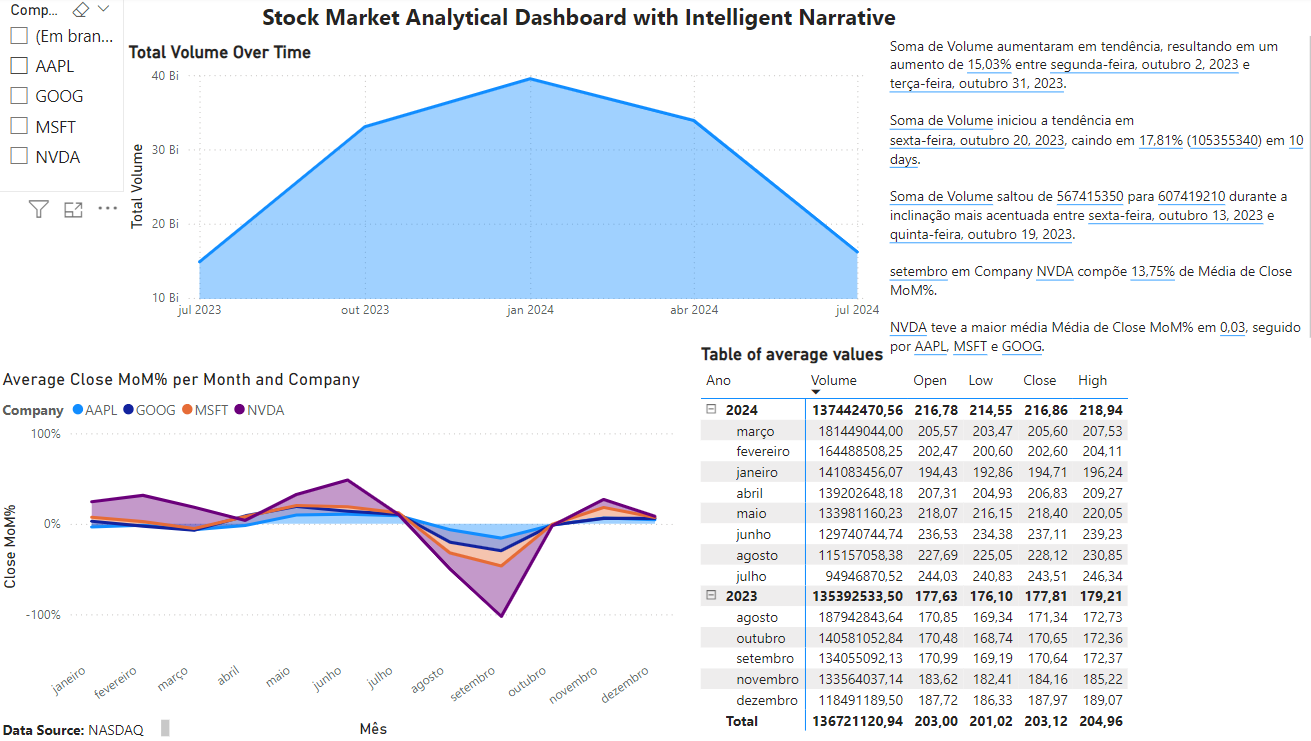

What the dashboard file says about the page in this screenshot:
{"tool":"powerbi","page":{"name":"Stock Market","canvas":[1280,720],"ordinal":0},"visuals":[{"type":"areaChart","title":"Total Volume Over Time","fields":{"Category":["TEC Stock Market.Date.Variation.Hierarquia de datas.Ano","TEC Stock Market.Date.Variation.Hierarquia de datas.Trimestre","TEC Stock Market.Date.Variation.Hierarquia de datas.Mês","TEC Stock Market.Date.Variation.Hierarquia de datas.Dia"],"Y":["Sum(TEC Stock Market.Volume)"]},"box":[143.6,43.4,700.9,292],"z":0},{"type":"pivotTable","title":"Table of average values per month","fields":{"Rows":["TEC Stock Market.Date.Variation.Hierarquia de datas.Ano","TEC Stock Market.Date.Variation.Hierarquia de datas.Mês"],"Values":["Avg(TEC Stock Market.Volume)","Avg(TEC Stock Market.Open)","Avg(TEC Stock Market.Low)","Sum(TEC Stock Market.Close)","Avg(TEC Stock Market.High)"]},"box":[674.4,335.4,591.2,384.9],"z":1000},{"type":"slicer","fields":{"Values":["TEC Stock Market.Company"]},"box":[0,0,143.6,189.4],"z":2000},{"type":"stackedAreaChart","title":"Average Close MoM% per Month and Company","fields":{"Category":["TEC Stock Market.Date.Variation.Hierarquia de datas.Mês"],"Y":["StockMarket.Média de Close MoM%"],"Series":["StockMarket.Company"]},"box":[0,359.5,659.9,360.7],"z":3000},{"type":"textbox","box":[313.7,0,646.7,43.4],"z":4000},{"type":"textbox","box":[844.5,33.8,435.5,325.7],"z":5000},{"type":"textbox","box":[0,693.7,171.3,26.5],"z":6000}]}

Visuals, with their boxes on the page's 1280x720 design canvas (x1, y1, x2, y2). These are canvas units, not pixel positions in the 1311x741 screenshot, which may show the page scaled, cropped or inside an application window:
"Total Volume Over Time" areaChart: bbox(144, 43, 844, 335)
"Table of average values per month" pivotTable: bbox(674, 335, 1266, 720)
slicer - TEC Stock Market.Company: bbox(0, 0, 144, 189)
"Average Close MoM% per Month and Company" stackedAreaChart: bbox(0, 360, 660, 720)
textbox: bbox(314, 0, 960, 43)
textbox: bbox(844, 34, 1280, 360)
textbox: bbox(0, 694, 171, 720)
